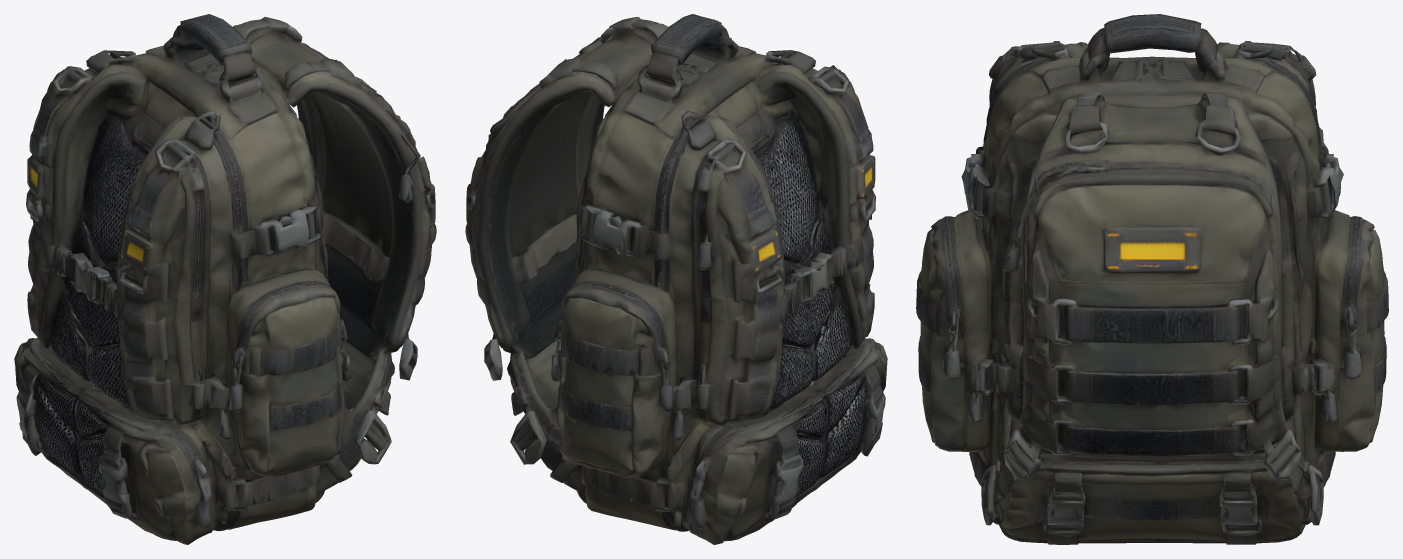
The model's file is tactical-backpack-v1.glb.
The picture shows the model from 3 angles, left to right: view 1: azimuth 30°, elevation 25°; view 2: azimuth 150°, elevation 25°; view 3: azimuth 270°, elevation 25°; orthographic projection. The views are drawn at different scales.
Parts seen in each view (by area): view 1: tripo_node_c0ed5b0f-45fd-47ef-9c52-1bcdfdb4e4b5; view 2: tripo_node_c0ed5b0f-45fd-47ef-9c52-1bcdfdb4e4b5; view 3: tripo_node_c0ed5b0f-45fd-47ef-9c52-1bcdfdb4e4b5.
Boxes of the visible parts, box(x1,y1,x2,y2) form: tripo_node_c0ed5b0f-45fd-47ef-9c52-1bcdfdb4e4b5: box(14, 14, 436, 544); tripo_node_c0ed5b0f-45fd-47ef-9c52-1bcdfdb4e4b5: box(465, 14, 887, 544); tripo_node_c0ed5b0f-45fd-47ef-9c52-1bcdfdb4e4b5: box(916, 14, 1388, 544).
Bounding box in the file's own units: 0.7645 × 0.9803 × 0.8268.
Materials: 1 (1 with a texture image).
